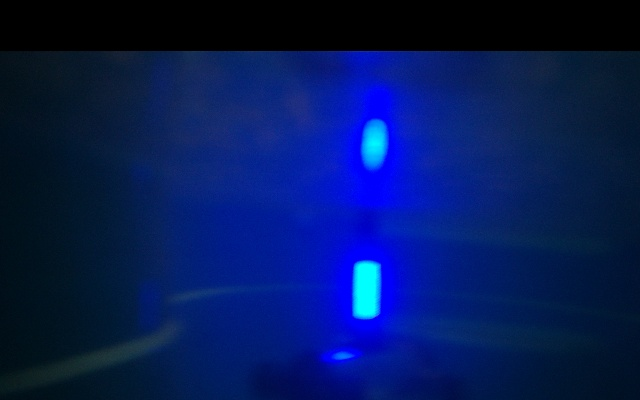blue: (353, 258, 381, 333)
